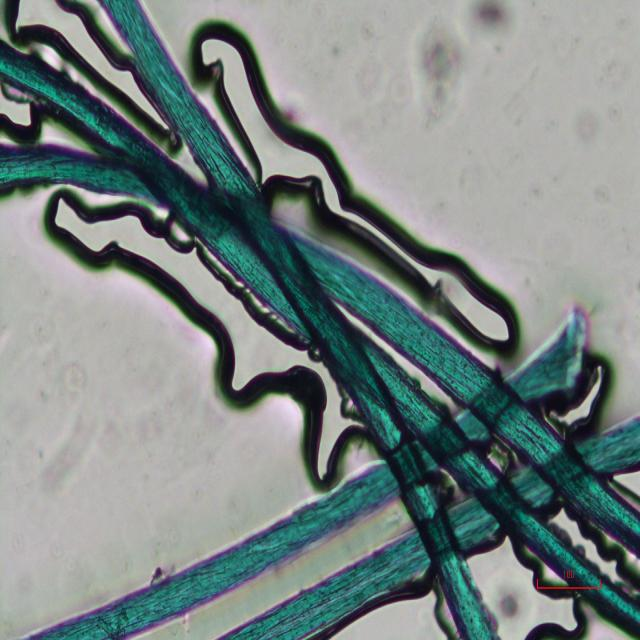Air bubble: (191, 25, 519, 354), (23, 190, 338, 483), (13, 0, 140, 107), (472, 540, 585, 636), (0, 87, 51, 146)
Background material: (419, 24, 470, 132), (471, 1, 515, 43)
Microfibre: (0, 41, 640, 631), (0, 145, 640, 558), (98, 0, 501, 637), (21, 309, 590, 638), (222, 414, 640, 638)
